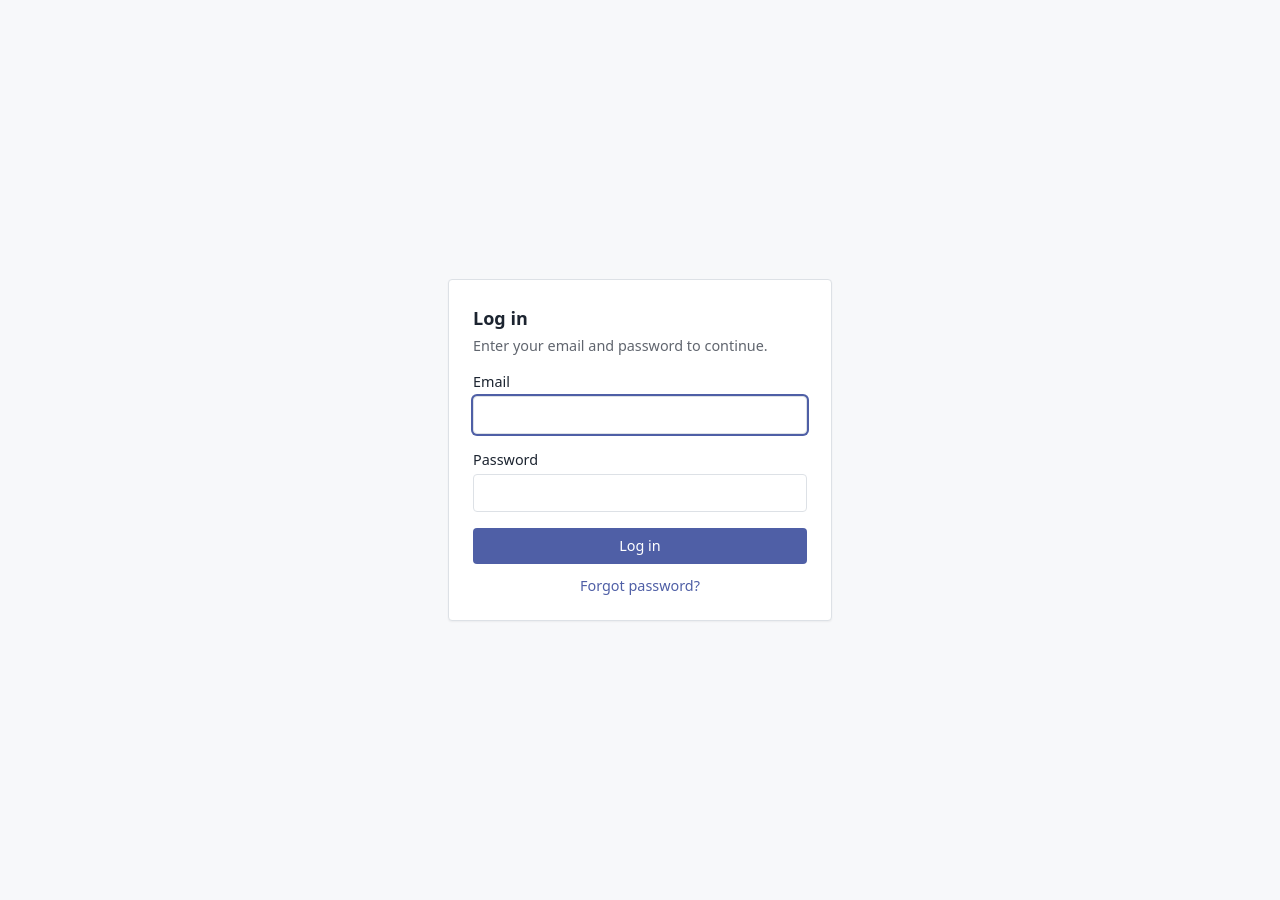
Test: LoginGate › publishes the login response's user when there was no stored token to check
In the field labelled "Email": (640, 415) x1=473 y1=396 x2=807 y2=434, type "jo@example.com"
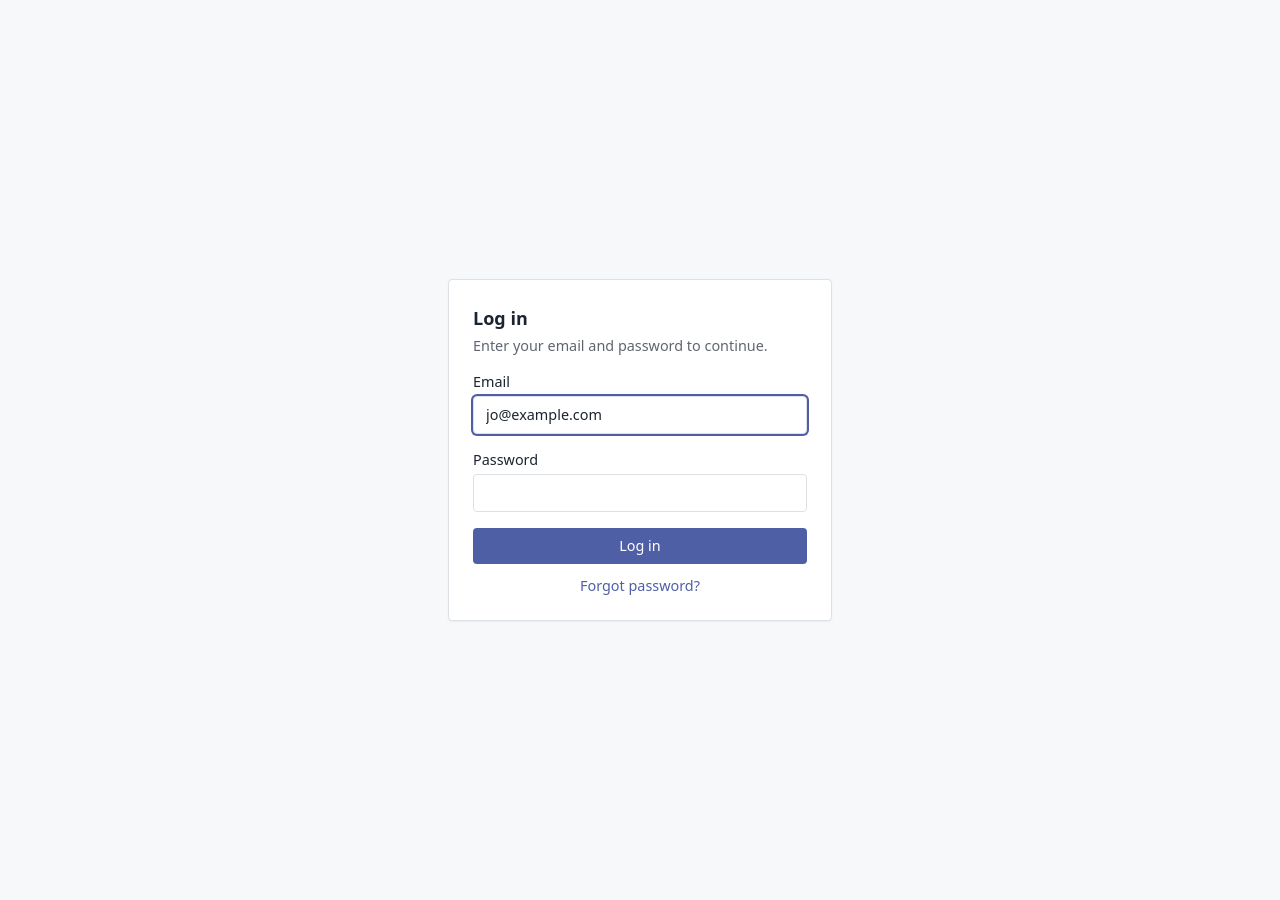
In the password field labelled "Password": (640, 493) x1=473 y1=474 x2=807 y2=512, type "correct-password"
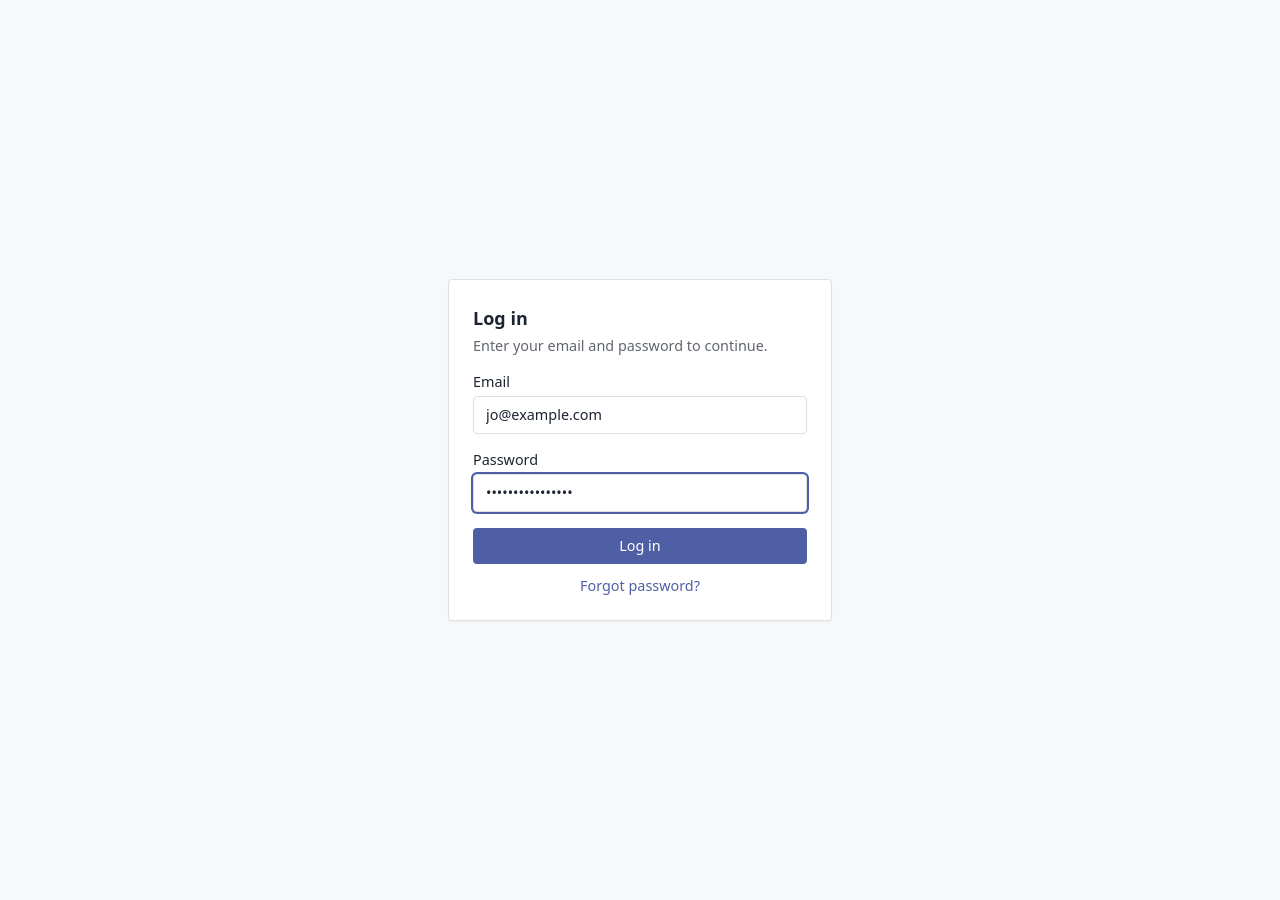
Click the button "Log in": (640, 546) x1=473 y1=528 x2=807 y2=564
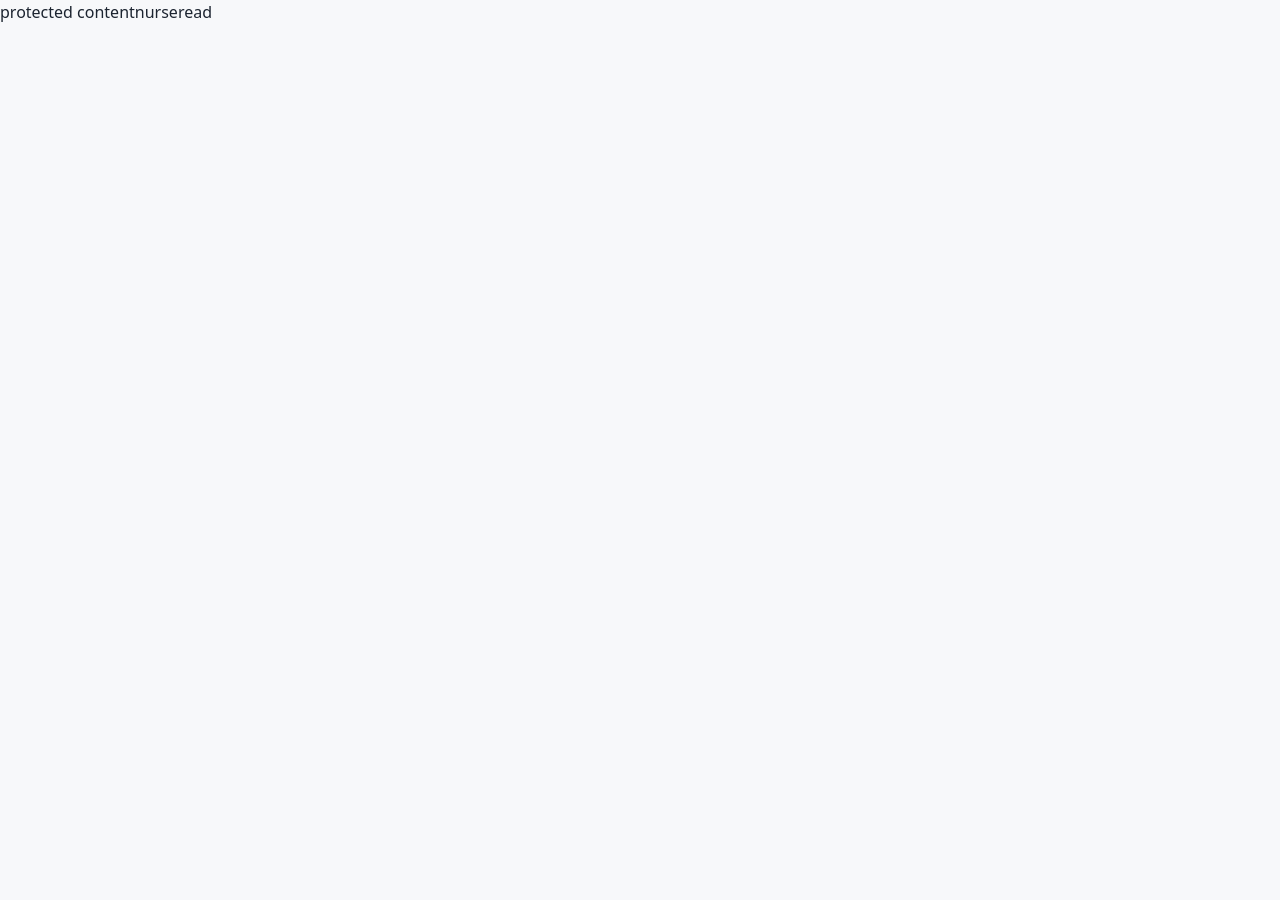
Now the text with test id "probe-level" reads "nurse", box x1=135 y1=1 x2=178 y2=23
Now the text with test id "probe-clinical" reads "read", box x1=178 y1=1 x2=212 y2=23
